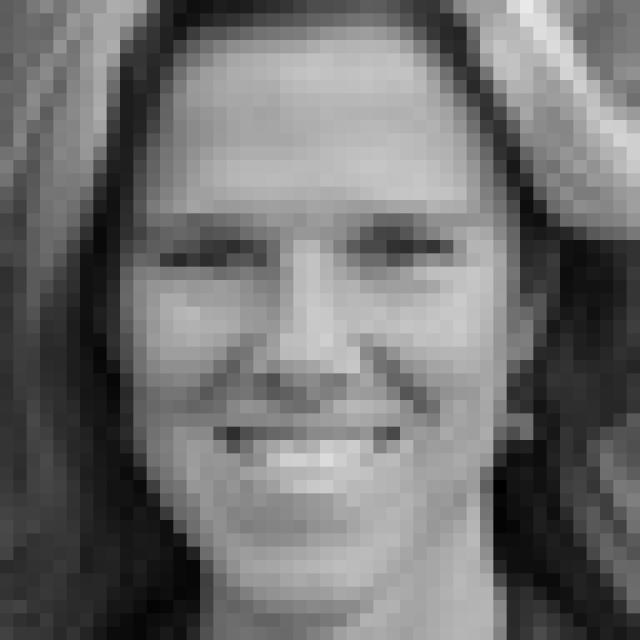happy: (144, 198, 490, 512)
